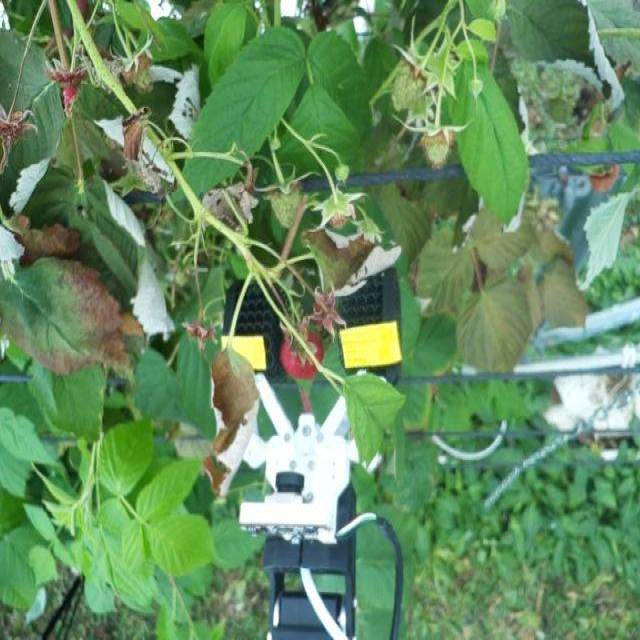Riped berries: (277, 322, 325, 382)
